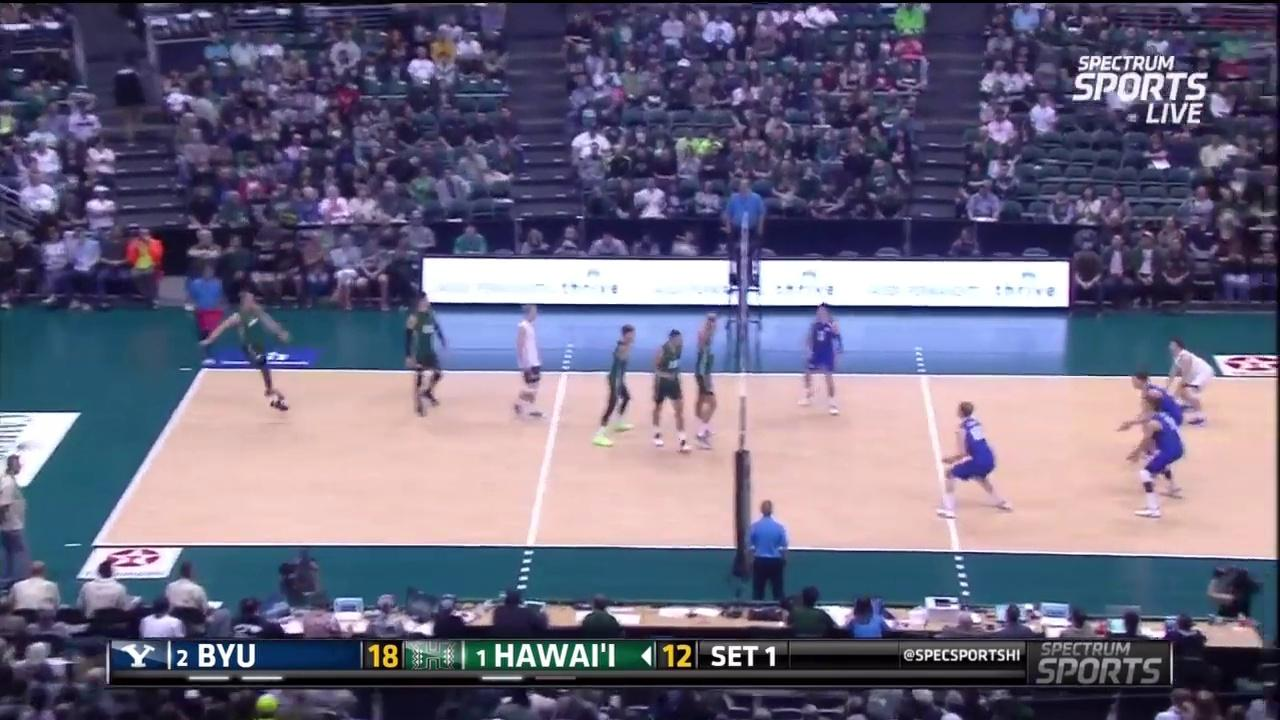player: (222, 289, 297, 414), (936, 403, 1017, 515), (1127, 398, 1185, 521), (1128, 367, 1189, 468), (403, 289, 447, 415), (650, 327, 692, 453), (801, 302, 844, 415), (595, 325, 635, 445), (511, 302, 547, 426), (1165, 338, 1210, 428), (694, 314, 724, 449)
refree: (746, 498, 793, 602), (721, 179, 764, 290), (186, 263, 227, 369)
